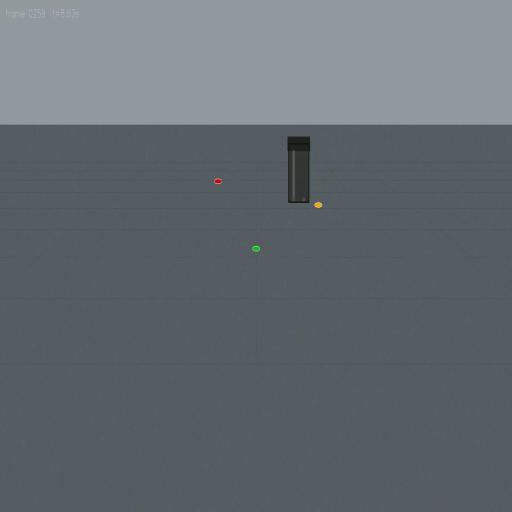bin: (287, 136, 311, 203)
